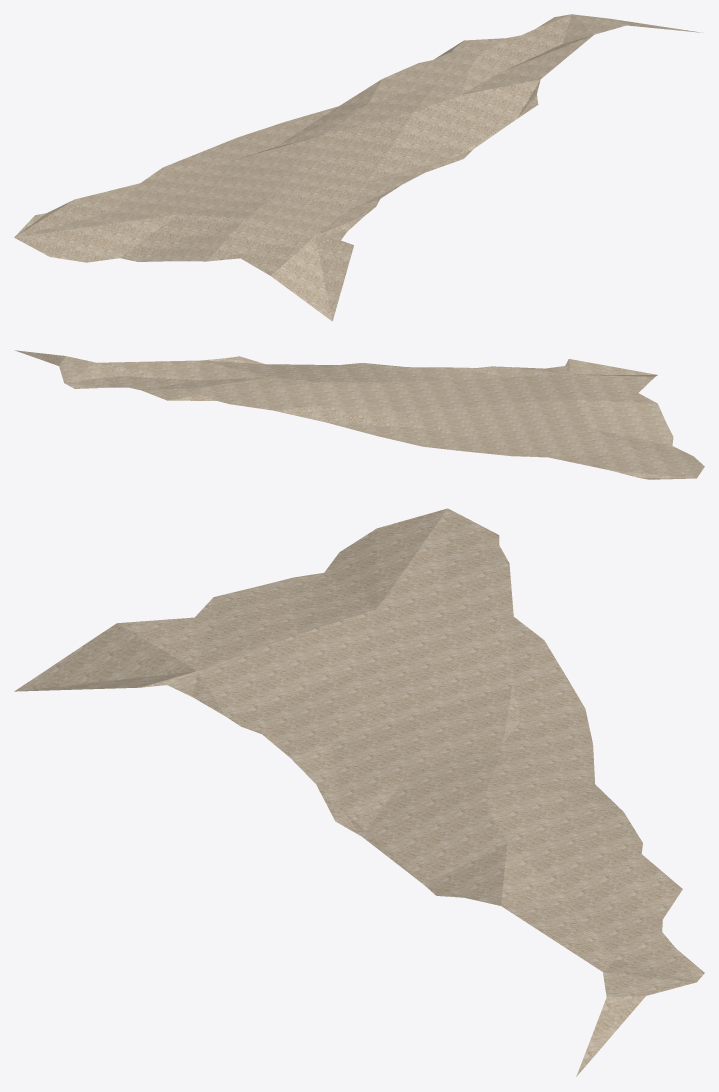
Rendered from sbobject01.obj.
3 views of the same model, one above another, from view 1: azimuth 30°, elevation 25°; view 2: azimuth 150°, elevation 25°; view 3: azimuth 270°, elevation 25° (orthographic). The views are drawn at different scales.
Visible parts, largest first — view 1: sbObject01; view 2: sbObject01; view 3: sbObject01.
Part boxes in pixels (x1,y1,x2,y2): sbObject01: (14, 14, 702, 321); sbObject01: (15, 350, 704, 479); sbObject01: (14, 508, 704, 1076).
Bounding box in the file's own units: 365 × 22.07 × 189.
1 material, 1 textured.
